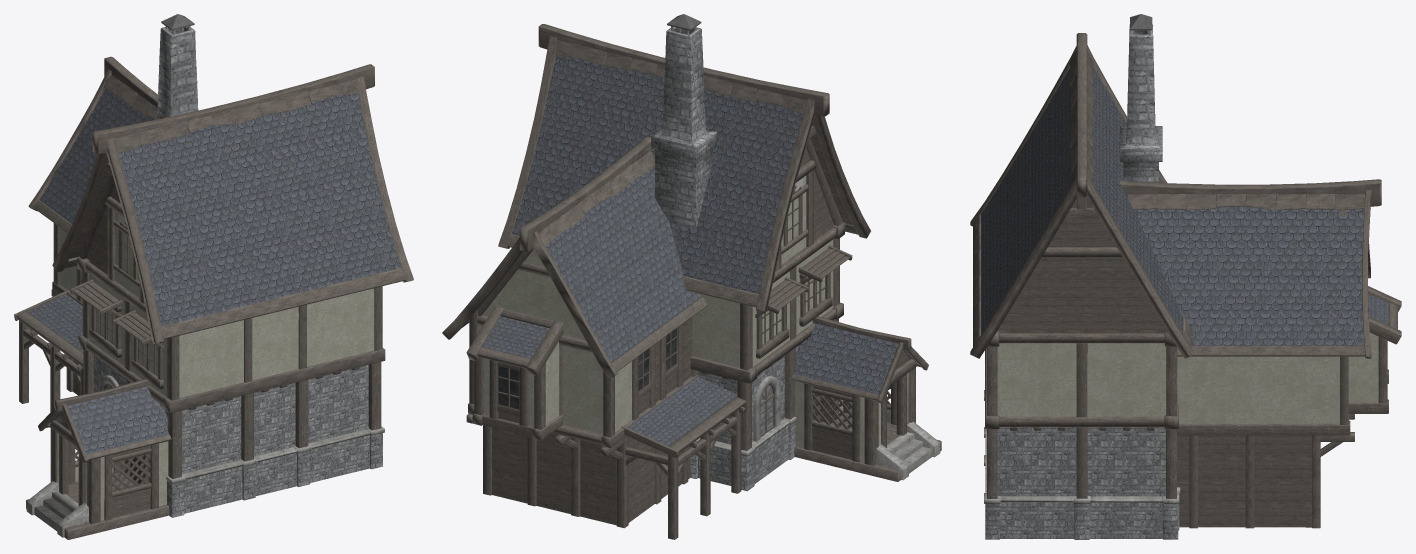
File: house1.glb
3 views of the same model, side by side, from view 1: azimuth 30°, elevation 25°; view 2: azimuth 150°, elevation 25°; view 3: azimuth 270°, elevation 25° (orthographic). The views are drawn at different scales.
Visible parts, largest first — view 1: pasted__Cube.219_blinn1_0, Cube.016_blinn1_0; view 2: pasted__Cube.219_blinn1_0, Cube.016_blinn1_0; view 3: pasted__Cube.219_blinn1_0, Cube.016_blinn1_0.
Part boxes in pixels (x1,y1,x2,y2): pasted__Cube.219_blinn1_0: (14,26,413,539); Cube.016_blinn1_0: (16,14,405,537); pasted__Cube.219_blinn1_0: (442,24,941,539); Cube.016_blinn1_0: (462,14,940,528); pasted__Cube.219_blinn1_0: (970,24,1401,539); Cube.016_blinn1_0: (973,14,1401,539).
Size of the model in its own units: 10.69 by 12.61 by 10.77.
Materials: 1 (1 with a texture image).
